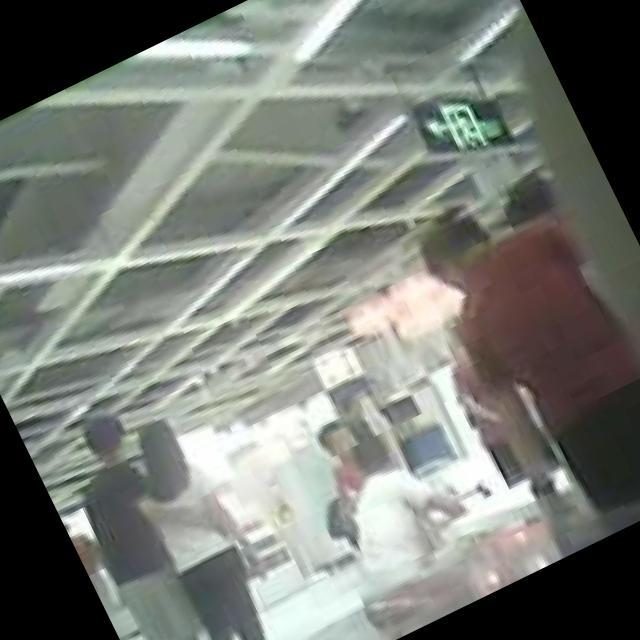person: (381, 153, 640, 566), (28, 409, 253, 640), (103, 406, 315, 640), (310, 417, 482, 590), (426, 306, 576, 498), (287, 402, 413, 544)
